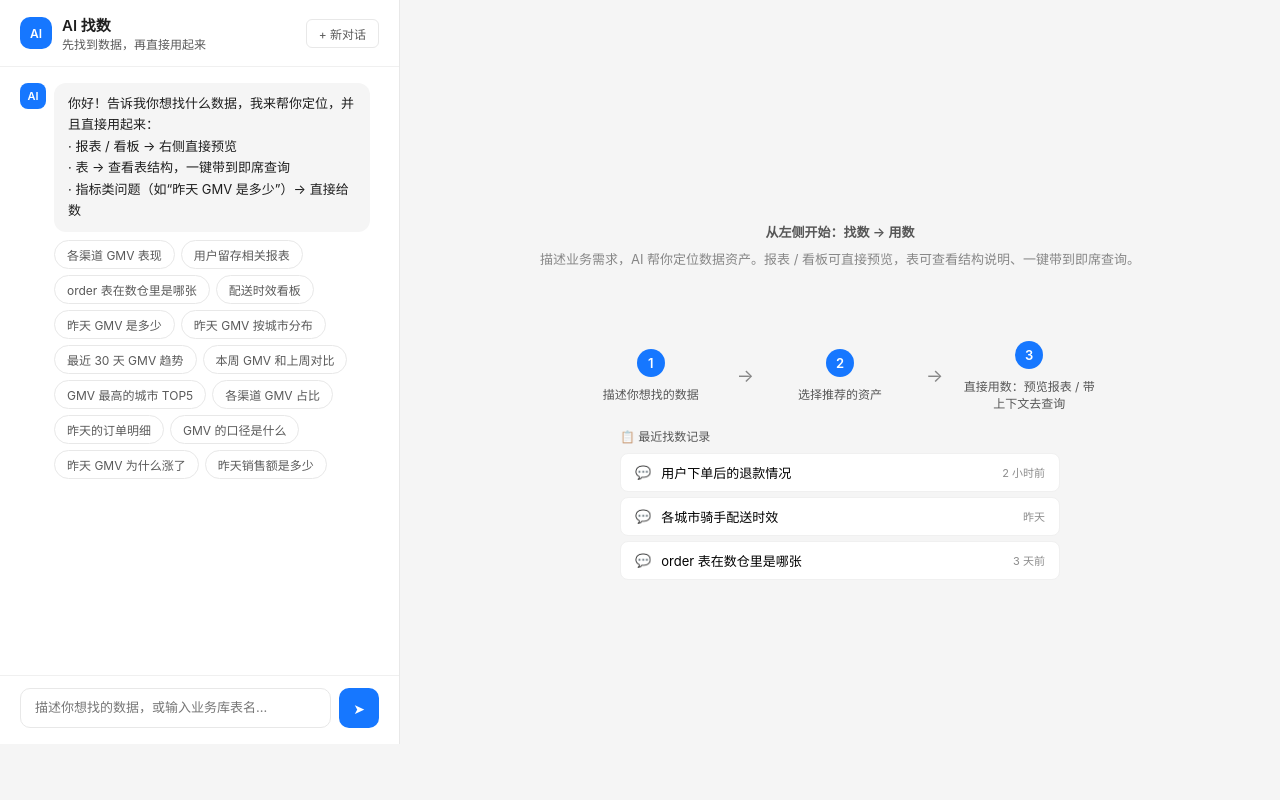
Test: AIFindDataPage › 查数：发送"昨天 GMV 是多少"出摘要卡与来源口径面板
Type "昨天 GMV 是多少" into the text box with class "ai-find__input" at [176, 708], box [20,688,331,728]
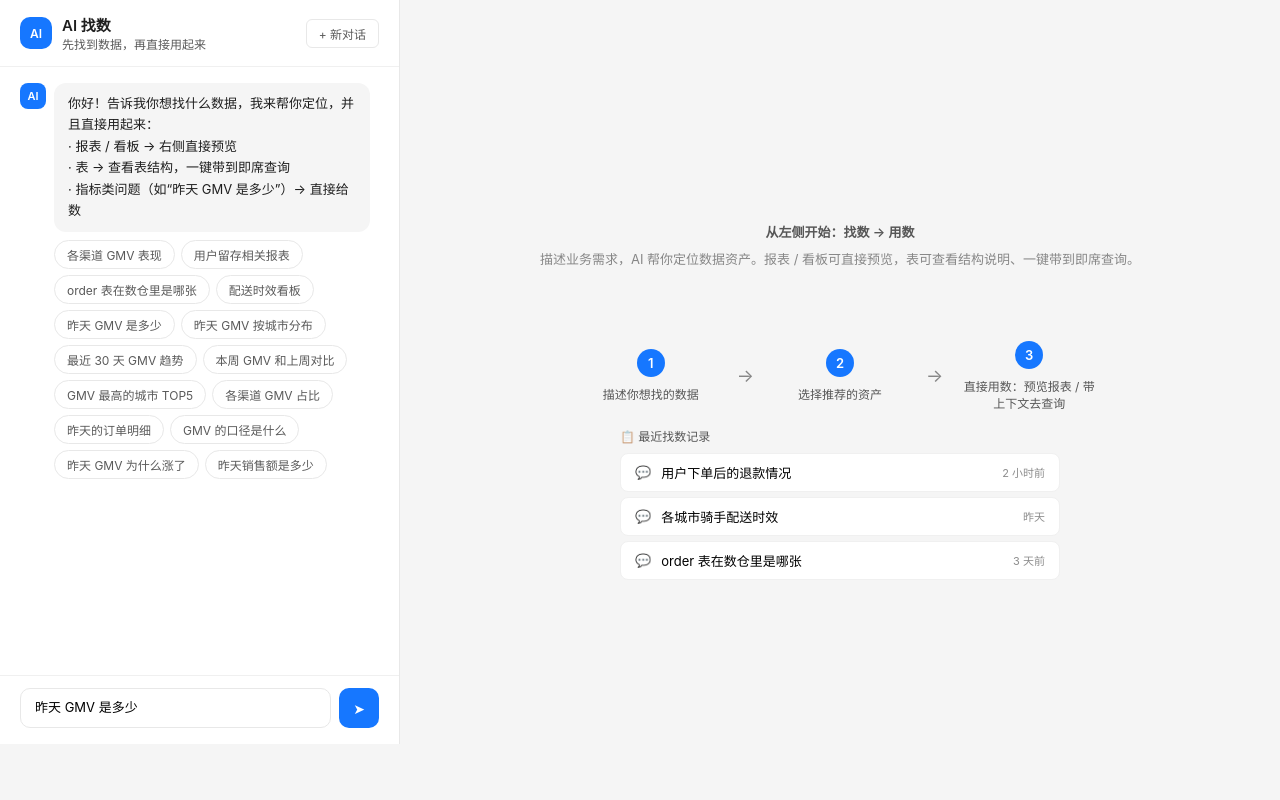
Press Enter in the text box with class "ai-find__input", box [20,688,331,728]
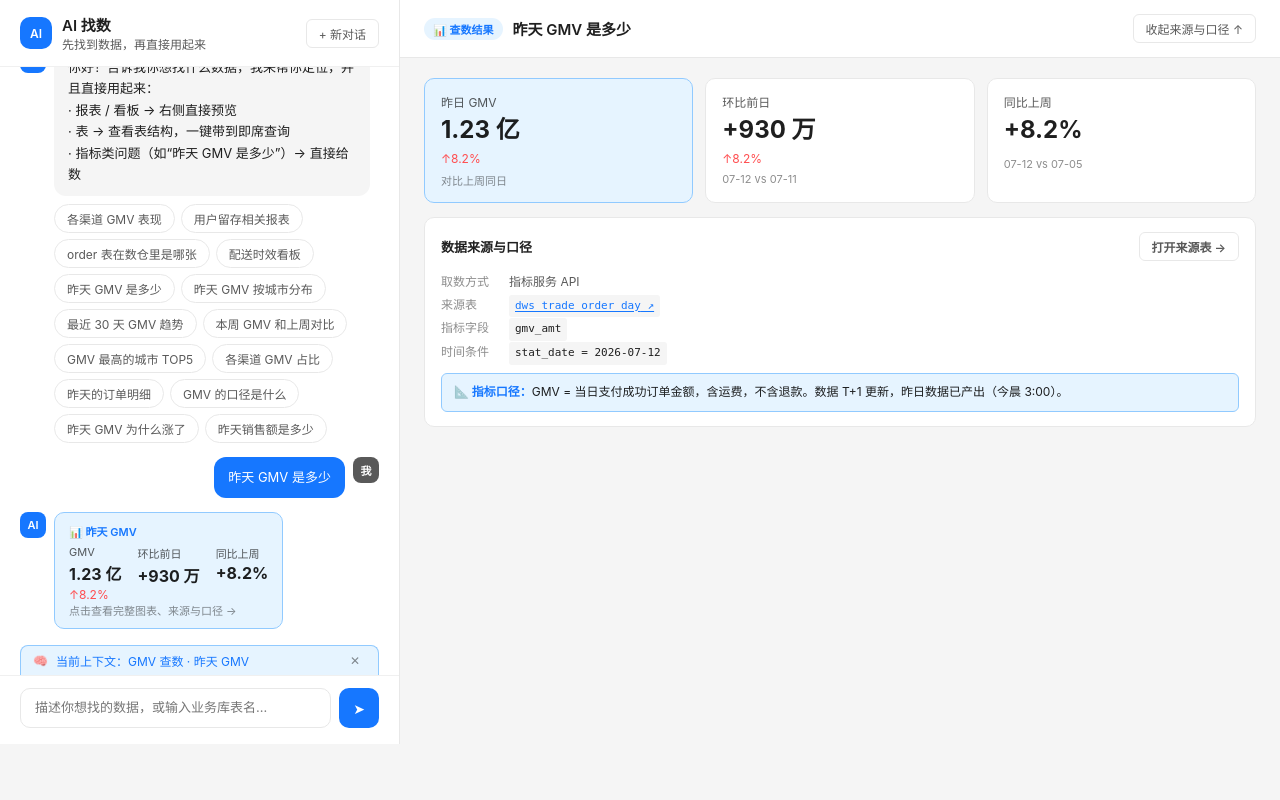
Check: the text with class "ai-find__chatbi-summary-label" shows "昨天 GMV", box [86,525,137,539]
Check: the element with test id "chatbi-source" shows "指标口径", box [454,384,532,399]
Check: the element with test id "chatbi-source" shows "dws_trade_order_day", box [509,295,660,318]
